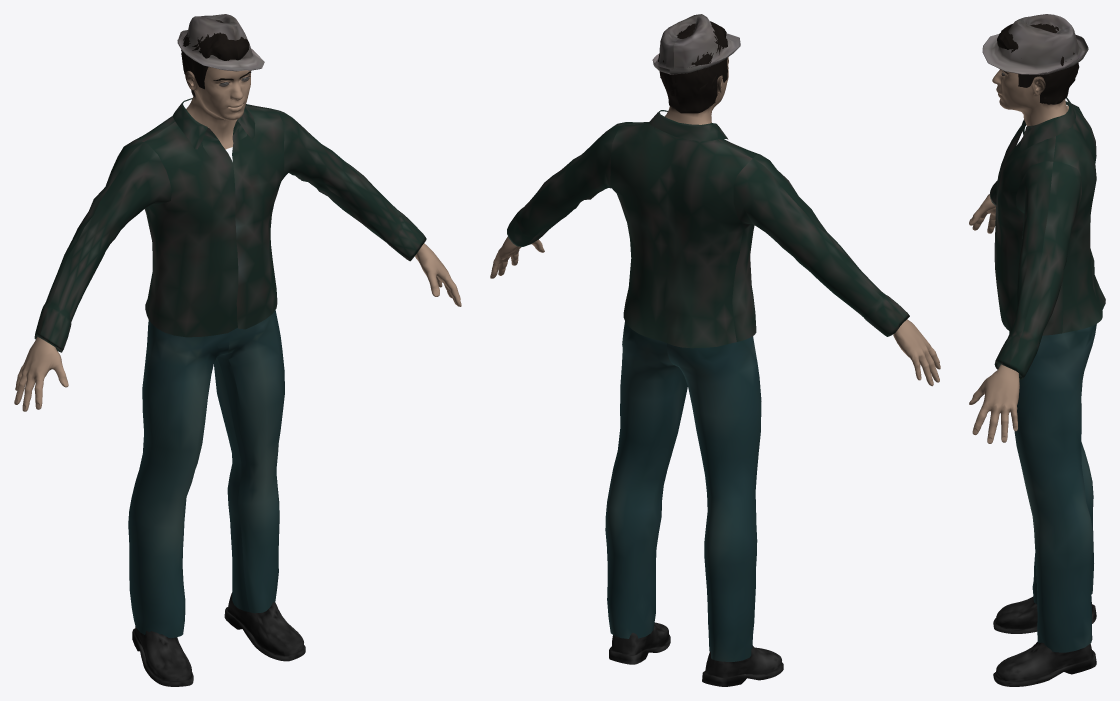
File: 0004-People-cast-cooked-mh-38.glb
3 renders of one model, left to right at view 1: azimuth 30°, elevation 25°; view 2: azimuth 150°, elevation 25°; view 3: azimuth 270°, elevation 25°, orthographic.
Parts seen in each view (by area): view 1: People: cast (cooked)/mh_38; view 2: People: cast (cooked)/mh_38; view 3: People: cast (cooked)/mh_38.
Part boxes in pixels (x1,y1,x2,y2): People: cast (cooked)/mh_38: [14, 14, 461, 686]; People: cast (cooked)/mh_38: [490, 14, 940, 686]; People: cast (cooked)/mh_38: [969, 14, 1105, 686].
Size of the model in its own units: 1.35 by 1.88 by 0.3665.
